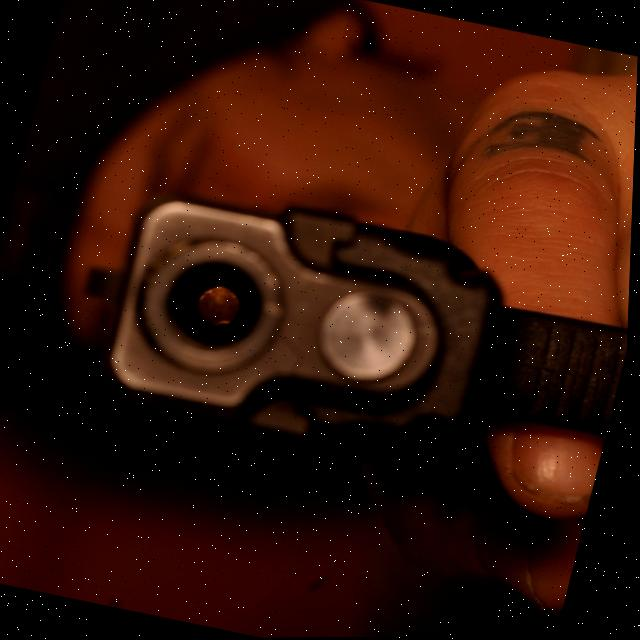pistol: (45, 154, 635, 517)
